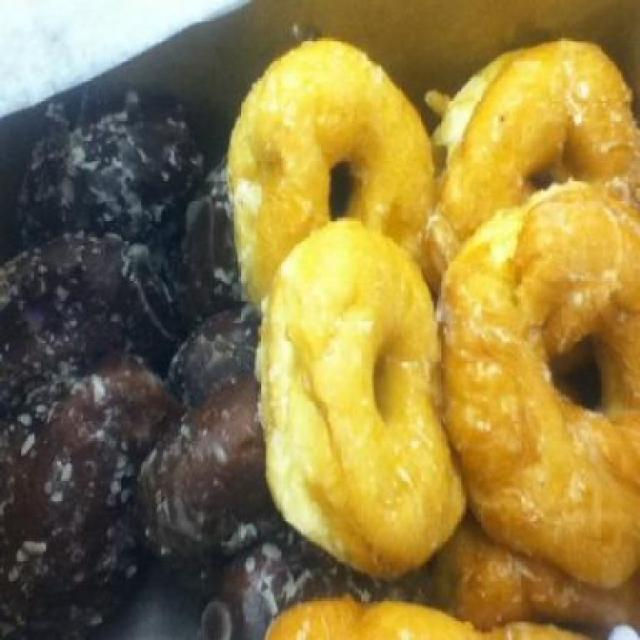Donuts: (222, 36, 640, 638)
